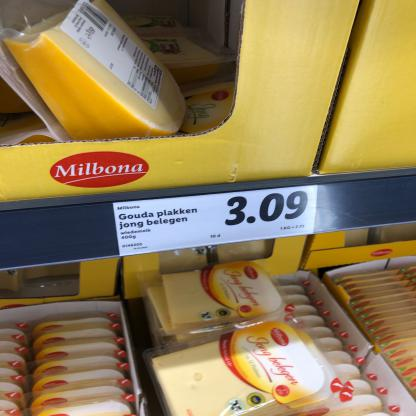prtg: (114, 186, 319, 257)
